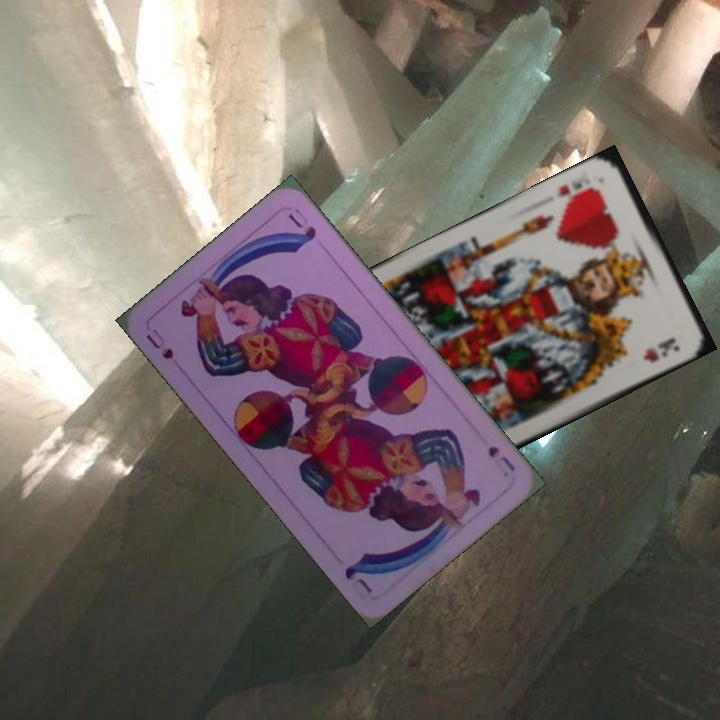HK: (552, 178, 602, 207)
SU: (141, 324, 176, 362), (484, 441, 518, 475)
